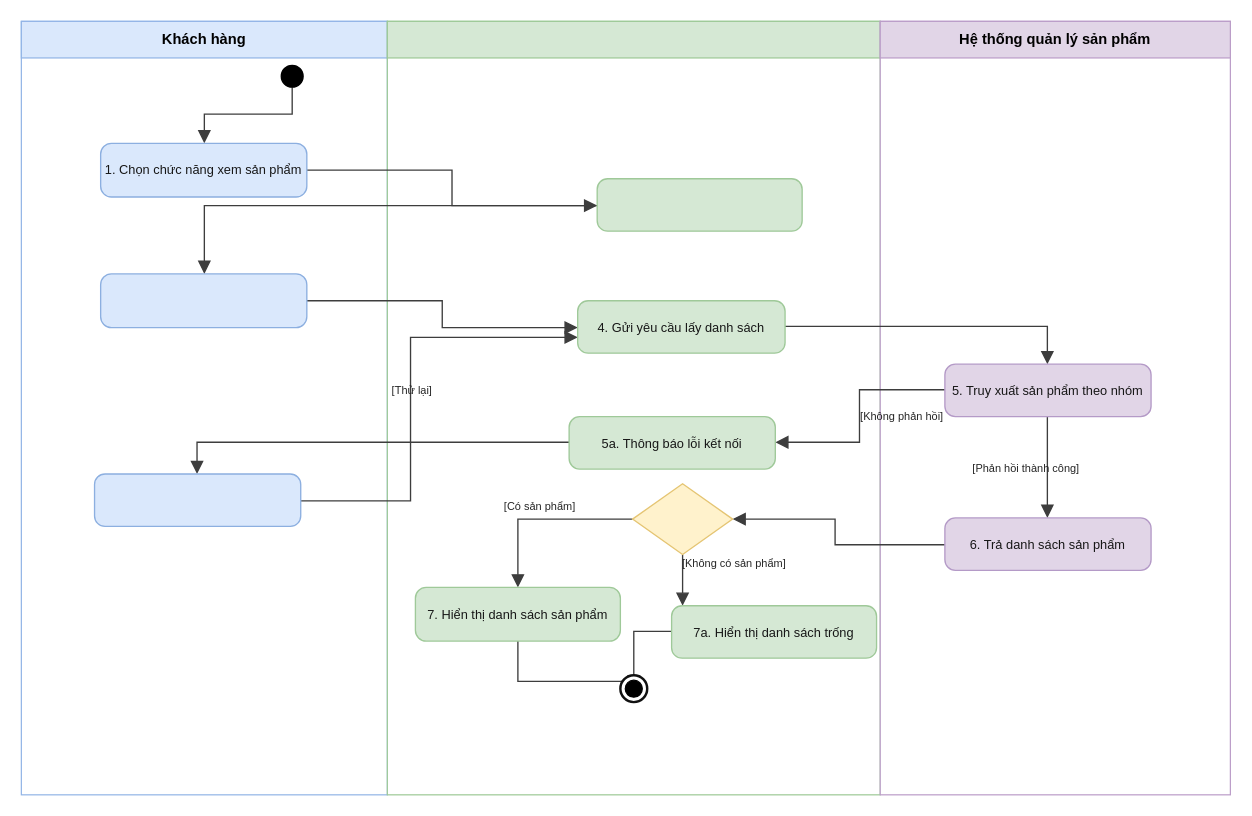
The diagram is 1252 pixels wide and 816 high, and some of its shapes have lost their labels. Each missing label, with the centre of its shape:
"2. Hiển thị các nhóm sản phẩm" goes at [699,204].
"3. Chọn một nhóm sản phẩm" goes at [203,300].
"6a. Chọn thử lại" goes at [197,500].
"Có dữ liệu?" goes at [682,519].
"e-SHOPPING" goes at [633,39].
